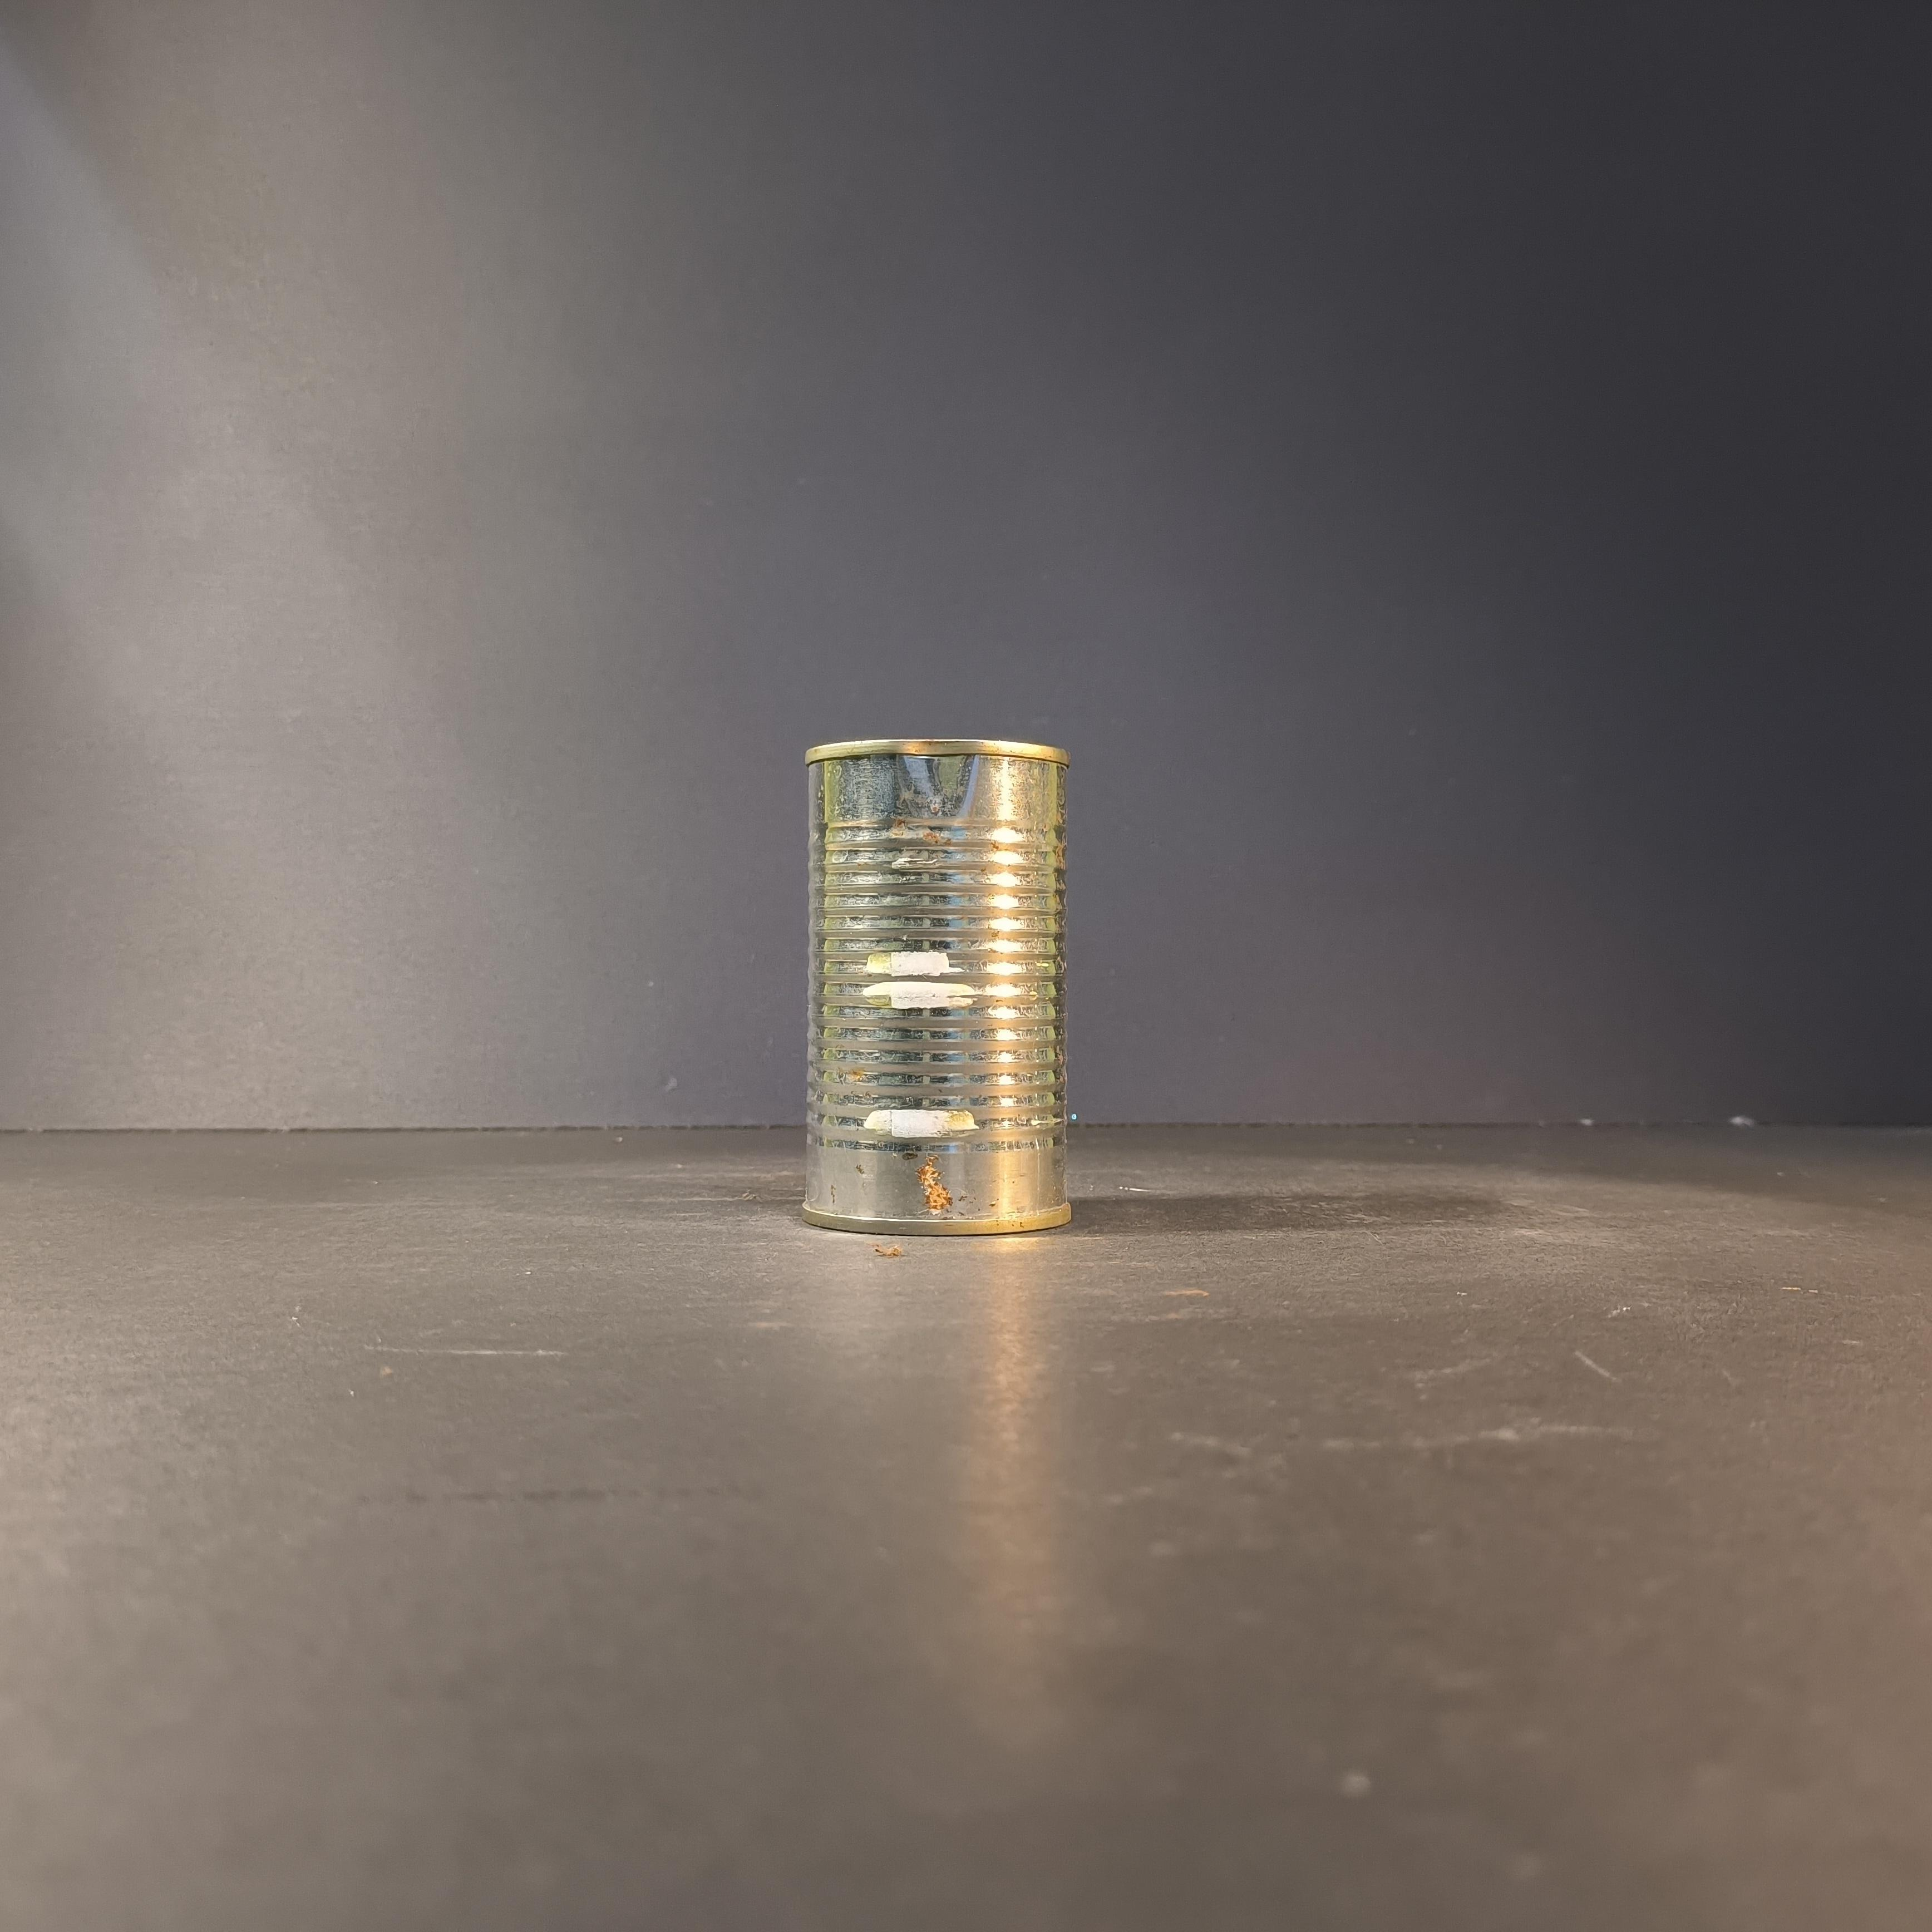Dented: (778, 715, 1102, 1269)
